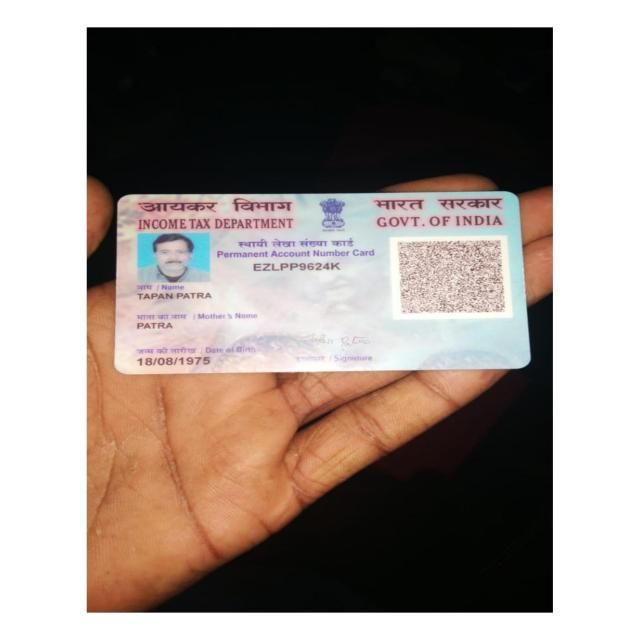pan_card: (123, 194, 522, 370)
